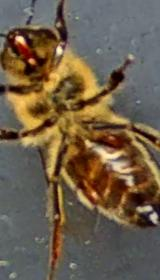varroa_mite: (70, 171, 106, 209), (94, 128, 128, 150)
